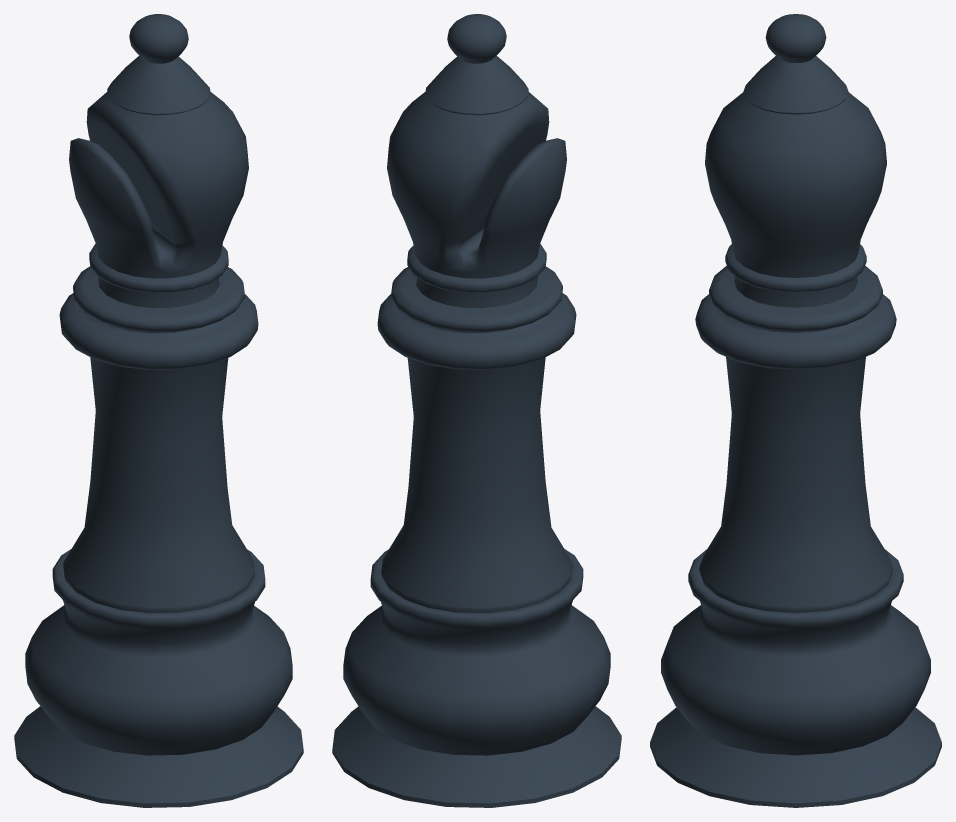
Rendered from black-bishop.glb.
3 renders of one model, left to right at view 1: azimuth 30°, elevation 25°; view 2: azimuth 150°, elevation 25°; view 3: azimuth 270°, elevation 25°, orthographic.
Visible parts, largest first — view 1: Bishop; view 2: Bishop; view 3: Bishop.
Part boxes in pixels (x1,y1,x2,y2): Bishop: (14,14,303,807); Bishop: (332,14,621,807); Bishop: (650,14,941,807).
Bounding box in the file's own units: 0.0379 × 0.1054 × 0.0382.
